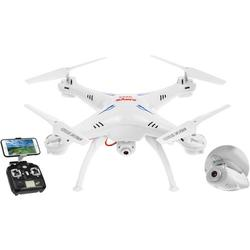drone: (24, 53, 232, 193)
